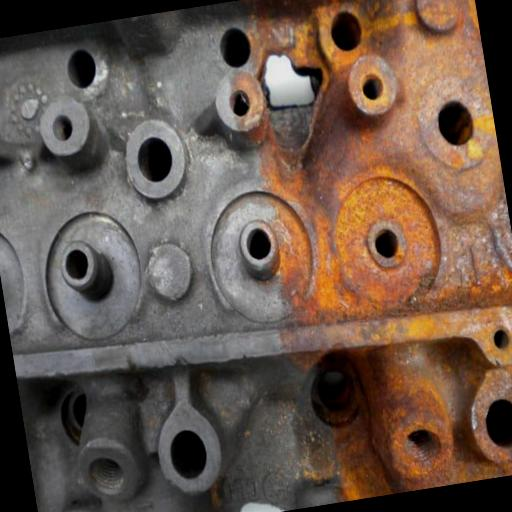corrosion: (280, 292, 496, 499), (288, 252, 512, 356), (357, 0, 475, 98), (393, 400, 508, 481)
